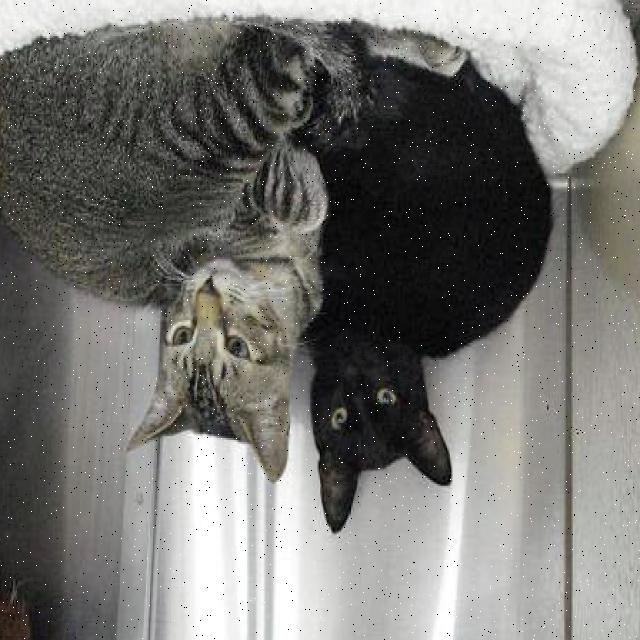Cat: (127, 245, 300, 460), (309, 314, 449, 525)
